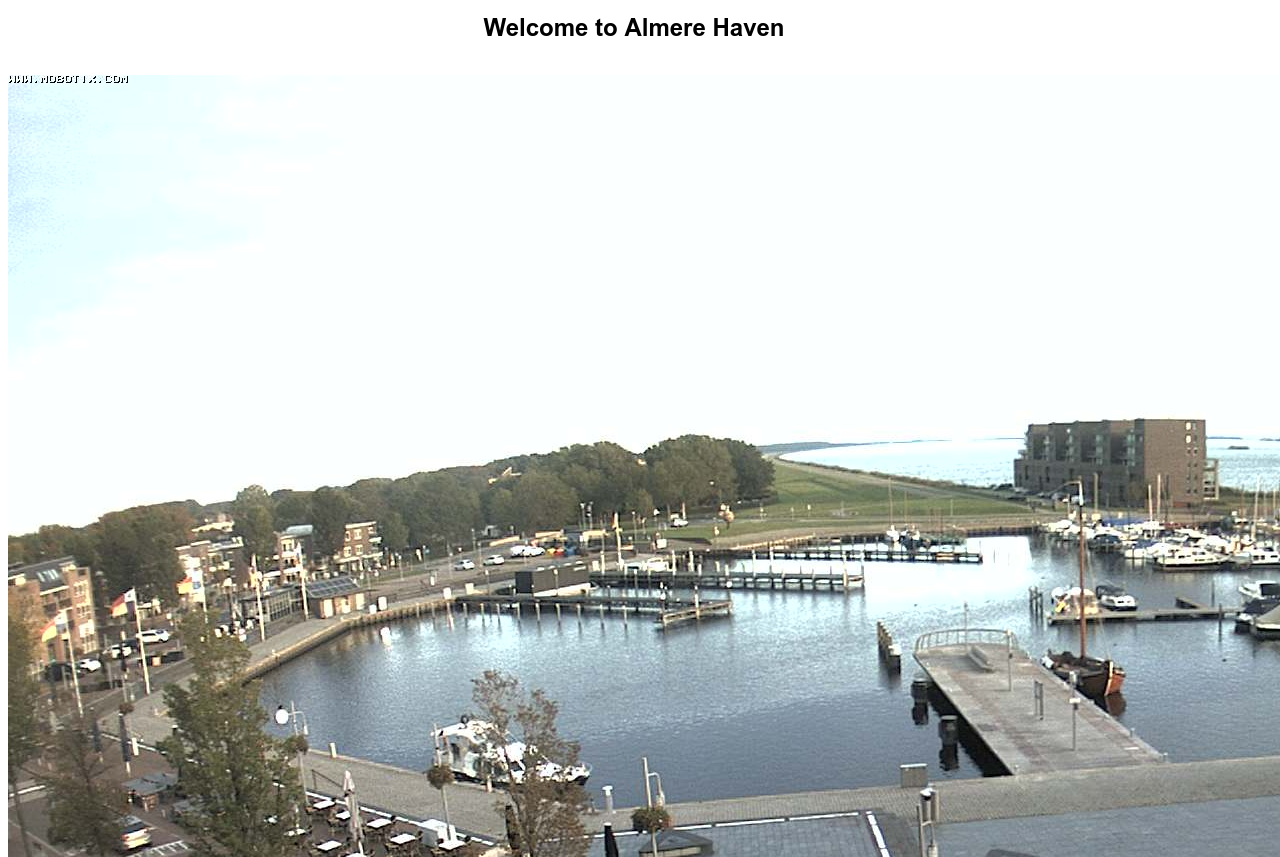maybe: (41, 599, 73, 643), (172, 560, 208, 598), (107, 582, 139, 620)
